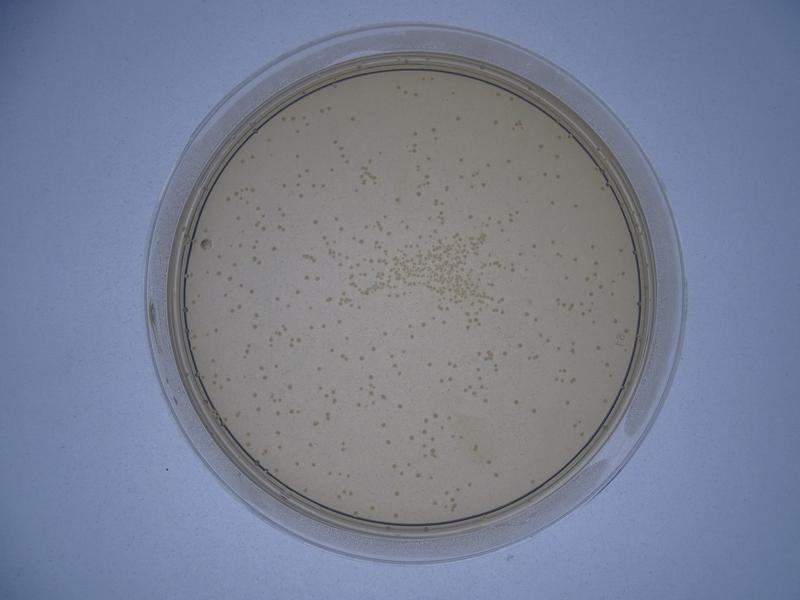colony: (45, 11, 110, 53), (452, 153, 471, 166), (551, 149, 567, 164), (489, 115, 503, 131), (587, 239, 601, 255), (387, 458, 401, 474), (287, 284, 304, 297), (366, 343, 383, 356), (393, 399, 408, 413), (390, 192, 406, 205), (266, 240, 279, 256), (378, 324, 392, 338), (527, 404, 541, 418), (415, 316, 429, 330), (513, 171, 526, 186), (247, 319, 262, 332), (545, 195, 561, 207), (312, 269, 323, 286), (500, 154, 514, 167), (376, 418, 389, 432), (283, 379, 297, 392), (249, 389, 262, 403), (547, 235, 561, 248), (327, 134, 342, 146), (295, 189, 307, 204), (311, 363, 326, 375), (308, 417, 323, 429), (270, 427, 286, 438), (534, 140, 547, 153), (519, 305, 532, 318), (421, 150, 434, 163), (464, 209, 477, 222), (490, 468, 503, 481), (610, 313, 623, 326), (289, 149, 303, 161), (572, 198, 584, 212), (455, 170, 467, 184), (308, 214, 320, 228), (410, 124, 422, 138), (559, 271, 573, 283), (317, 318, 329, 332), (510, 396, 524, 408), (405, 429, 417, 443), (348, 184, 363, 195), (446, 85, 458, 98), (591, 257, 604, 269), (480, 394, 492, 407), (392, 487, 405, 499), (591, 341, 604, 353), (223, 273, 236, 285), (430, 407, 443, 419), (246, 286, 260, 297), (410, 470, 424, 481), (271, 358, 281, 373), (452, 112, 464, 124), (278, 179, 290, 191), (529, 239, 541, 251), (333, 315, 345, 327), (341, 332, 353, 344), (304, 439, 316, 451), (345, 113, 358, 124), (571, 252, 582, 265), (563, 395, 574, 408), (482, 455, 494, 466), (515, 340, 526, 352), (498, 345, 509, 357), (394, 367, 405, 379), (595, 281, 606, 292), (423, 357, 433, 369), (327, 214, 342, 222), (326, 165, 337, 175), (273, 293, 283, 304), (383, 437, 394, 446)
